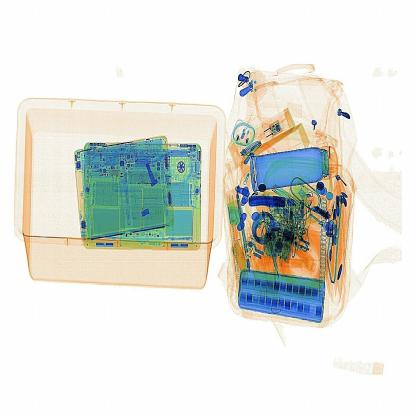knife: (244, 192, 295, 217)
